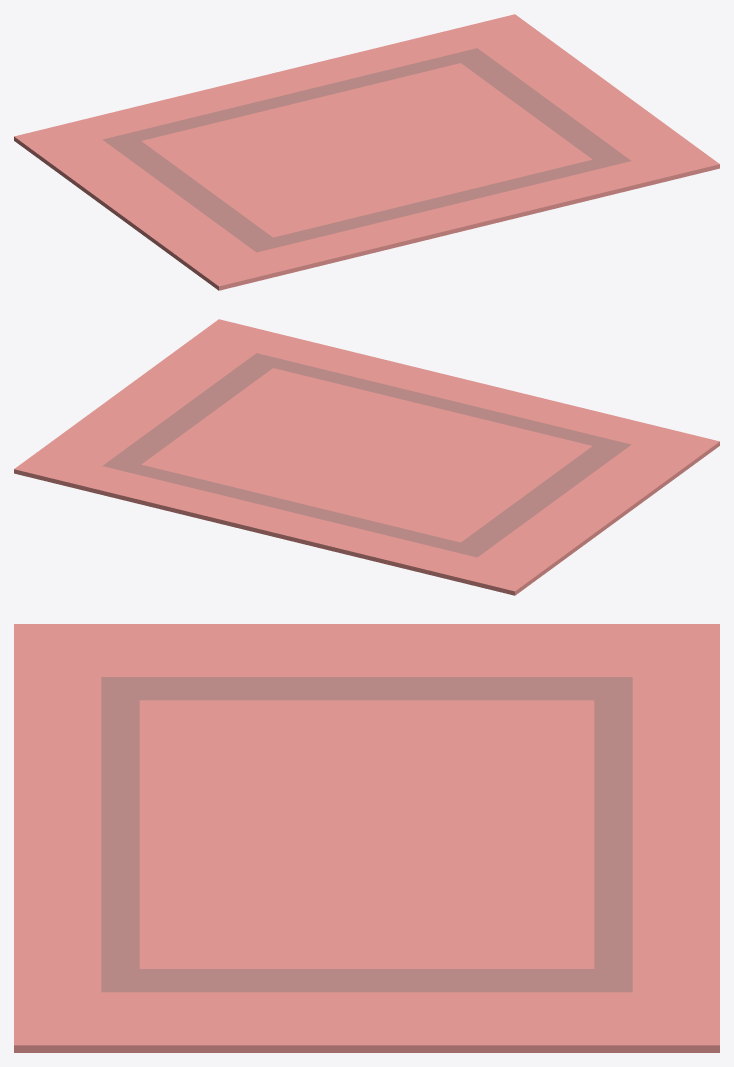
Rendered from kk-rugSquare.glb.
3 views of the same model, one above another, from view 1: azimuth 30°, elevation 25°; view 2: azimuth 150°, elevation 25°; view 3: azimuth 270°, elevation 25° (orthographic). The views are drawn at different scales.
Visible parts, largest first — view 1: rugSquare(Clone); view 2: rugSquare(Clone); view 3: rugSquare(Clone).
Part boxes in pixels (box(x1,y1,x2,y2)): rugSquare(Clone): box(14, 14, 719, 290); rugSquare(Clone): box(14, 319, 719, 595); rugSquare(Clone): box(14, 624, 719, 1052).
Bounding box in the file's own units: 1 × 0.0083 × 0.7083.
